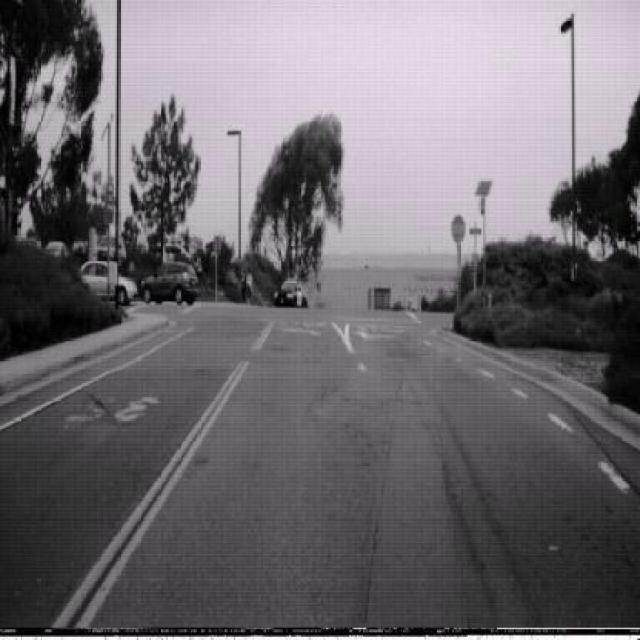stop: (451, 212, 466, 244)
